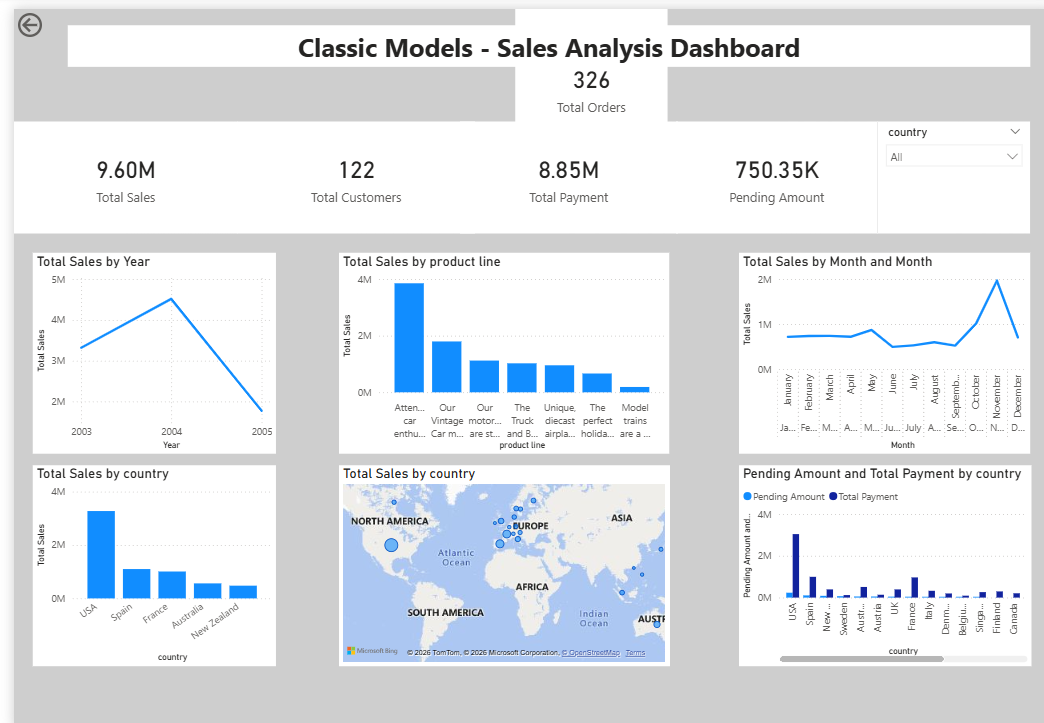

Layout of this report page (visuals, bound fields, positions):
{"tool":"powerbi","page":{"name":" Sales Analysis Dashboard","canvas":[1300,900],"ordinal":0},"visuals":[{"type":"card","fields":{"Values":["order details.Total Sales"]},"box":[0,140,279.9,140],"z":0},{"type":"card","fields":{"Values":["classic_models_dataset.Total Orders"]},"box":[626.6,0,190.8,195.4],"z":1000},{"type":"card","fields":{"Values":["classic_models_dataset.Total Customers"]},"box":[279.9,140,296.4,140],"z":2000},{"type":"card","fields":{"Values":["classic_models_dataset.Total Payment"]},"box":[557.1,140,271.7,140],"z":3000},{"type":"card","fields":{"Values":["classic_models_dataset.Pending Amount"]},"box":[828.8,140,251.1,140],"z":4000},{"type":"lineChart","fields":{"Category":["orders.orderDate.Variation.Date Hierarchy.Year","orders.orderDate.Variation.Date Hierarchy.Quarter","orders.orderDate.Variation.Date Hierarchy.Month","orders.orderDate.Variation.Date Hierarchy.Day"],"Y":["order details.Total Sales"]},"box":[22.9,304.3,304.3,251.4],"z":5000},{"type":"clusteredColumnChart","fields":{"Category":["productlines.product line"],"Y":["order details.Total Sales"]},"box":[405.7,304.3,412.9,251.4],"z":6000},{"type":"map","fields":{"Category":["customers.country"],"Size":["order details.Total Sales"]},"box":[405.7,570,412.9,251.4],"z":7000},{"type":"actionButton","box":[0,0,100,40],"z":8000},{"type":"slicer","fields":{"Values":["Dim_Country.country"]},"box":[1079.9,140,190.7,140],"z":9000},{"type":"textbox","box":[67.2,20.6,1203.4,52.1],"z":10000},{"type":"lineChart","fields":{"Category":["orders.orderDate.Variation.Date Hierarchy.Month","orders.orderDate.Variation.Date Hierarchy.Day","orders.orderDate.Variation.Date Hierarchy.Month"],"Y":["order details.Total Sales"]},"box":[905.7,304.3,364.3,251.4],"z":11000},{"type":"clusteredColumnChart","fields":{"Category":["Dim_Country.country"],"Y":["order details.Total Sales"]},"box":[22.9,570,304.3,251.4],"z":12000},{"type":"clusteredColumnChart","fields":{"Category":["Dim_Country.country"],"Y":["classic_models_dataset.Pending Amount","classic_models_dataset.Total Payment"]},"box":[905.7,570,365.7,251.4],"z":13000}]}

Visuals, with their boxes on the page's 1300x900 design canvas (x1, y1, x2, y2). These are canvas units, not pixel positions in the 1044x723 screenshot, which may show the page scaled, cropped or inside an application window:
card - order details.Total Sales: bbox=(0, 140, 280, 280)
card - classic_models_dataset.Total Orders: bbox=(627, 0, 817, 195)
card - classic_models_dataset.Total Customers: bbox=(280, 140, 576, 280)
card - classic_models_dataset.Total Payment: bbox=(557, 140, 829, 280)
card - classic_models_dataset.Pending Amount: bbox=(829, 140, 1080, 280)
lineChart - orders.orderDate.Variation.Date Hierarchy.Year x orders.orderDate.Variation.Date Hierarchy.Quarter: bbox=(23, 304, 327, 556)
clusteredColumnChart - productlines.product line x order details.Total Sales: bbox=(406, 304, 819, 556)
map - customers.country x order details.Total Sales: bbox=(406, 570, 819, 821)
actionButton: bbox=(0, 0, 100, 40)
slicer - Dim_Country.country: bbox=(1080, 140, 1271, 280)
textbox: bbox=(67, 21, 1271, 73)
lineChart - orders.orderDate.Variation.Date Hierarchy.Month x orders.orderDate.Variation.Date Hierarchy.Day: bbox=(906, 304, 1270, 556)
clusteredColumnChart - Dim_Country.country x order details.Total Sales: bbox=(23, 570, 327, 821)
clusteredColumnChart - Dim_Country.country x classic_models_dataset.Pending Amount: bbox=(906, 570, 1271, 821)
